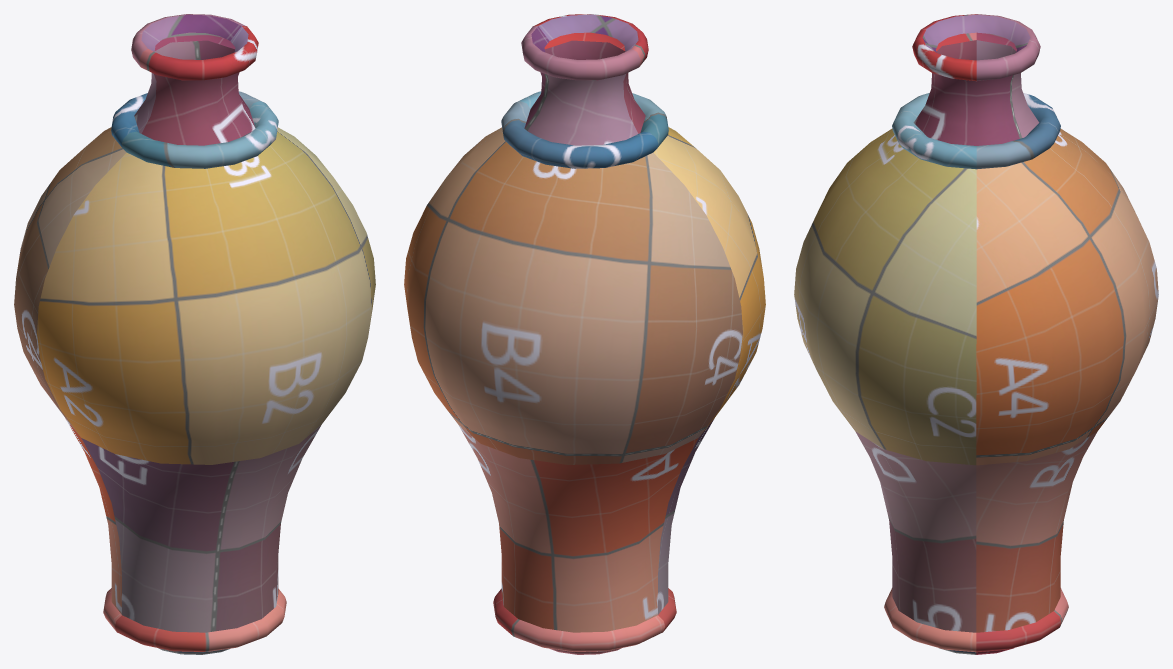
Rendered from LargeVase_LOW.fbx.
The picture shows the model from 3 angles, left to right: view 1: azimuth 30°, elevation 25°; view 2: azimuth 150°, elevation 25°; view 3: azimuth 270°, elevation 25°; orthographic projection.
Visible parts, largest first — view 1: LargeVase_LOW.001; view 2: LargeVase_LOW.001; view 3: LargeVase_LOW.001.
Part boxes in pixels (x1=…): LargeVase_LOW.001: x1=14, y1=14, x2=375, y2=654; LargeVase_LOW.001: x1=404, y1=14, x2=765, y2=654; LargeVase_LOW.001: x1=794, y1=14, x2=1158, y2=654.
Size of the model in its own units: 1.69 by 3.04 by 1.69.
Materials: 1 (1 with a texture image).
